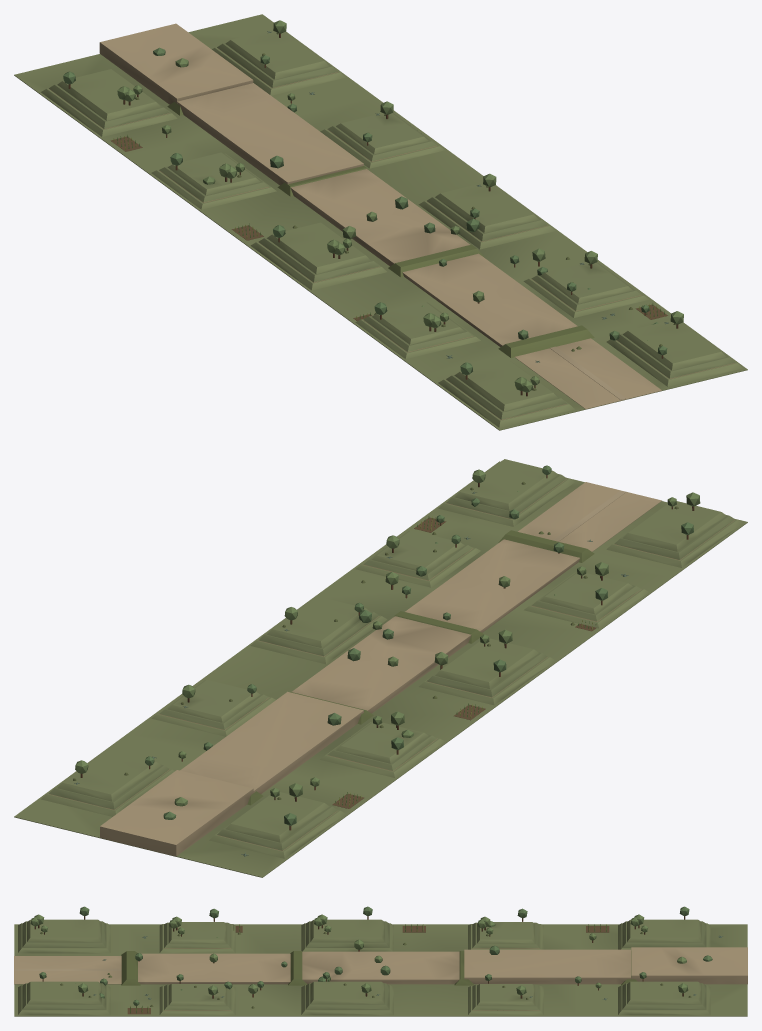
Rendered from avenue-of-the-dead-1500.glb.
3 views of the same model, one above another, from view 1: azimuth 30°, elevation 25°; view 2: azimuth 150°, elevation 25°; view 3: azimuth 270°, elevation 25° (orthographic). The views are drawn at different scales.
Visible parts, largest first — view 1: p0_avenue, p1_walls, p2_growth; view 2: p0_avenue, p1_walls, p2_growth; view 3: p0_avenue, p1_walls, p2_growth.
Part boxes in pixels (x1,y1,x2,y2): p0_avenue: (14, 14, 747, 430); p1_walls: (41, 20, 742, 427); p2_growth: (110, 47, 667, 399); p0_avenue: (14, 461, 747, 877); p1_walls: (41, 459, 742, 858); p2_growth: (151, 490, 648, 856); p0_avenue: (14, 924, 747, 1016); p1_walls: (18, 906, 710, 1015); p2_growth: (14, 908, 723, 1015).
Bounding box in the file's own units: 130 × 16.32 × 440.
